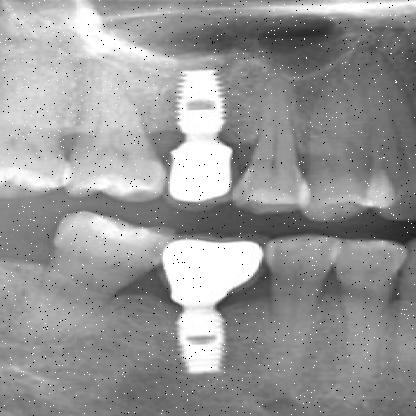Bicon: (151, 305, 256, 386), (160, 63, 249, 148)
